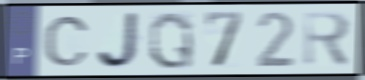2: (253, 10, 297, 70)
7: (203, 10, 245, 71)
C: (42, 14, 91, 68)
J: (94, 10, 143, 71)
Q: (147, 9, 196, 72)
R: (302, 9, 354, 70)
